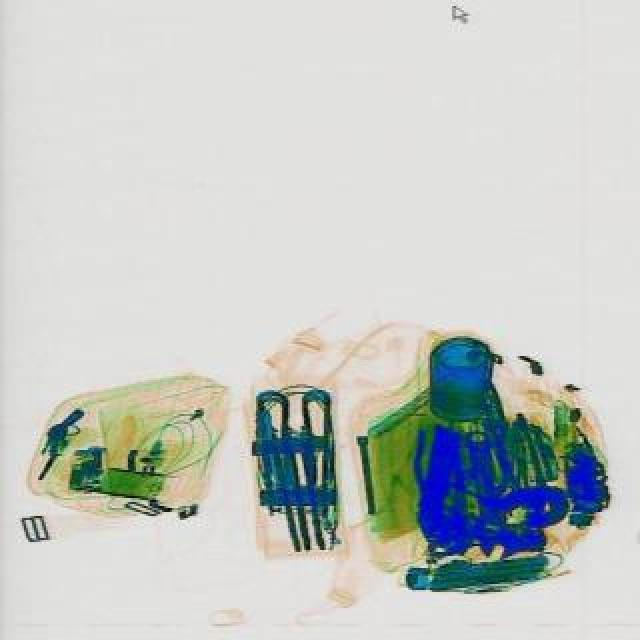scissors: (458, 428, 518, 564)
